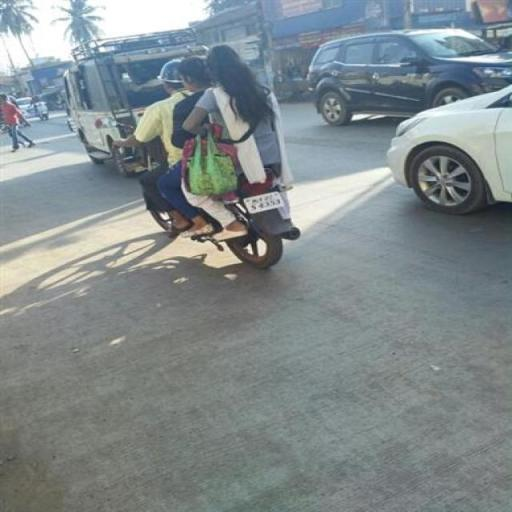tripple riding: (98, 43, 319, 184)
